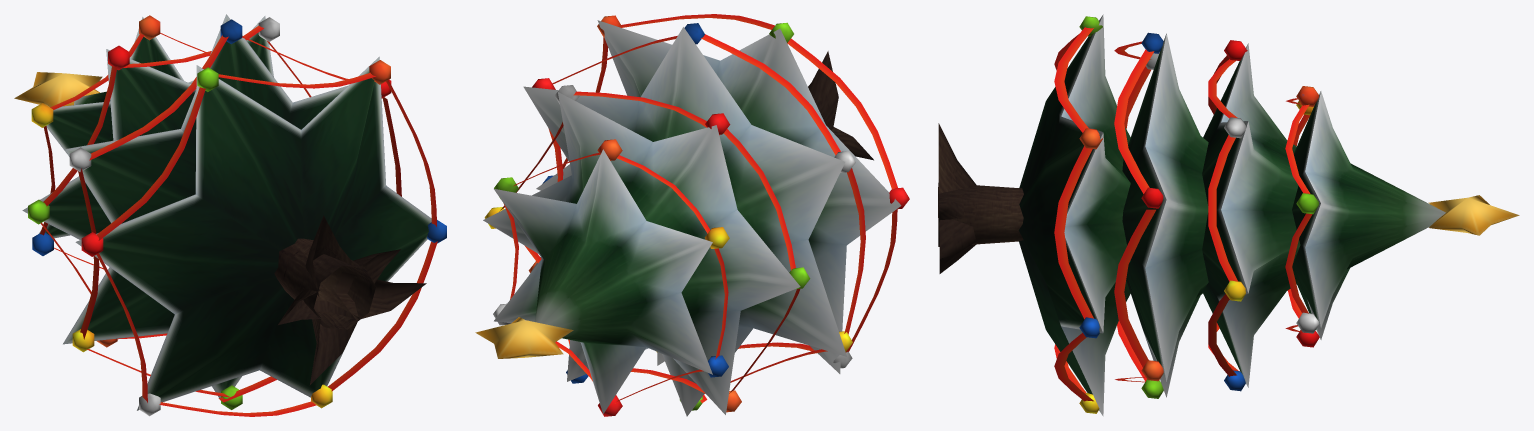
The model's file is Christmas_Tree_C.fbx.
3 views of the same model, side by side, from view 1: azimuth 30°, elevation 25°; view 2: azimuth 150°, elevation 25°; view 3: azimuth 270°, elevation 25° (orthographic). The views are drawn at different scales.
Visible parts, largest first — view 1: Christmas_Tree_C; view 2: Christmas_Tree_C; view 3: Christmas_Tree_C.
Boxes of the visible parts, <box> form: Christmas_Tree_C: <box>14,14,446,416</box>; Christmas_Tree_C: <box>475,14,909,416</box>; Christmas_Tree_C: <box>938,14,1519,416</box>.
Size of the model in its own units: 74.44 by 75.76 by 109.
